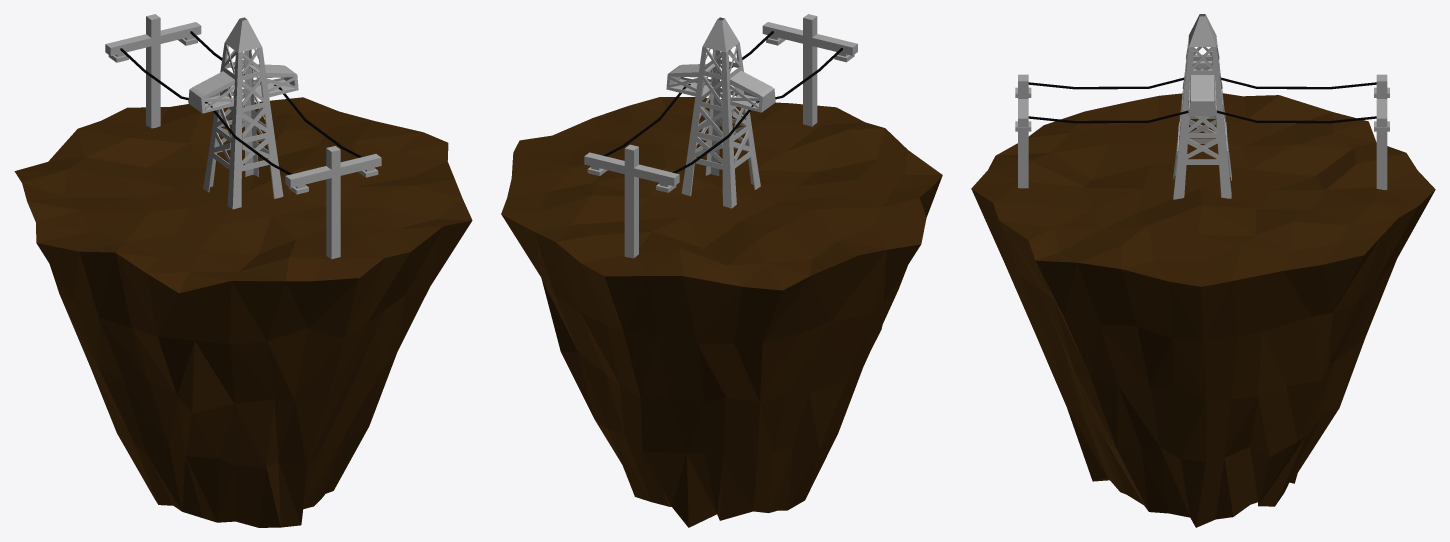
The model's file is Ostrov-power.fbx.
The picture shows the model from 3 angles, left to right: view 1: azimuth 30°, elevation 25°; view 2: azimuth 150°, elevation 25°; view 3: azimuth 270°, elevation 25°; orthographic projection.
Visible parts, largest first — view 1: Cube, Куб, Куб.001, Куб.003; view 2: Cube, Куб, Куб.001, Куб.003; view 3: Cube, Куб, Куб.001, Куб.003.
Part boxes in pixels (box(x1,y1,x2,y2)): Cube: box(14, 97, 472, 527); Куб: box(188, 17, 298, 209); Куб.001: box(105, 14, 381, 259); Куб.003: box(120, 31, 361, 174); Cube: box(501, 97, 942, 527); Куб: box(666, 17, 775, 208); Куб.001: box(584, 14, 857, 258); Куб.003: box(603, 31, 842, 173); Cube: box(971, 93, 1435, 527); Куб: box(1173, 14, 1231, 199); Куб.001: box(1015, 74, 1389, 189); Куб.003: box(1028, 77, 1376, 123).
Size of the model in its own units: 2609 by 2907 by 2576.
